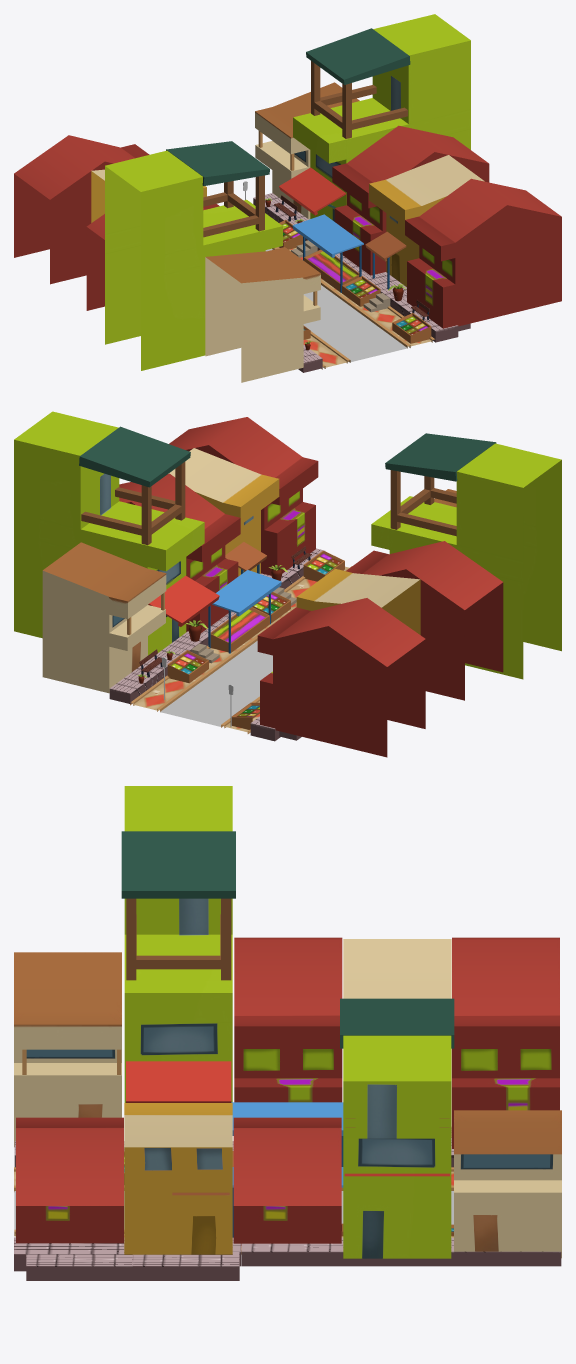
The model's file is nha2(1).fbx.
3 views of the same model, one above another, from view 1: azimuth 30°, elevation 25°; view 2: azimuth 150°, elevation 25°; view 3: azimuth 270°, elevation 25° (orthographic). The views are drawn at different scales.
Visible parts, largest first — view 1: pCylinder104, pCylinder102, pPlane49; view 2: pCylinder104, pCylinder102, pPlane49; view 3: pCylinder104, pCylinder102.
Boxes of the visible parts, left/top/right/bottom form: pCylinder104: left=243, top=14, right=561, bottom=348; pCylinder102: left=14, top=135, right=350, bottom=382; pPlane49: left=265, top=248, right=407, bottom=361; pCylinder104: left=14, top=411, right=351, bottom=711; pCylinder102: left=221, top=433, right=561, bottom=757; pPlane49: left=160, top=641, right=272, bottom=726; pCylinder104: left=14, top=998, right=561, bottom=1280; pCylinder102: left=14, top=786, right=559, bottom=1191.
Bounding box in the file's own units: 167 × 74.03 × 131.
